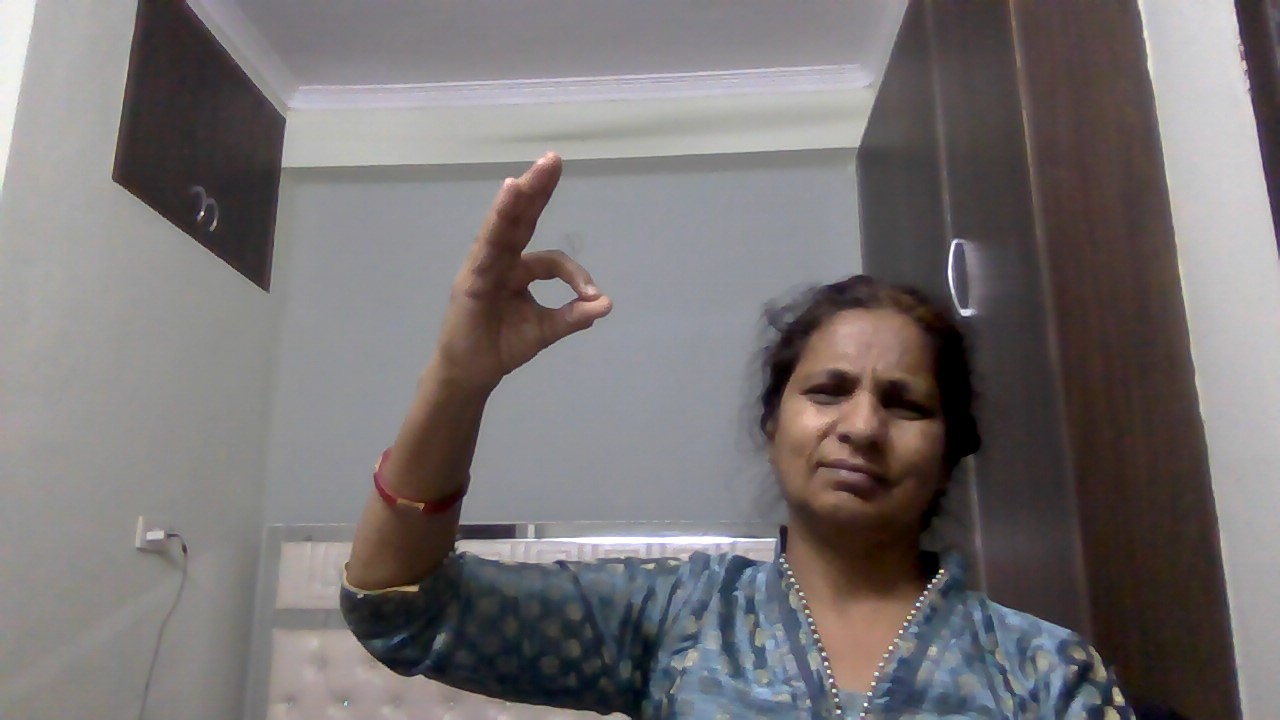Copy: (424, 143, 623, 403)
